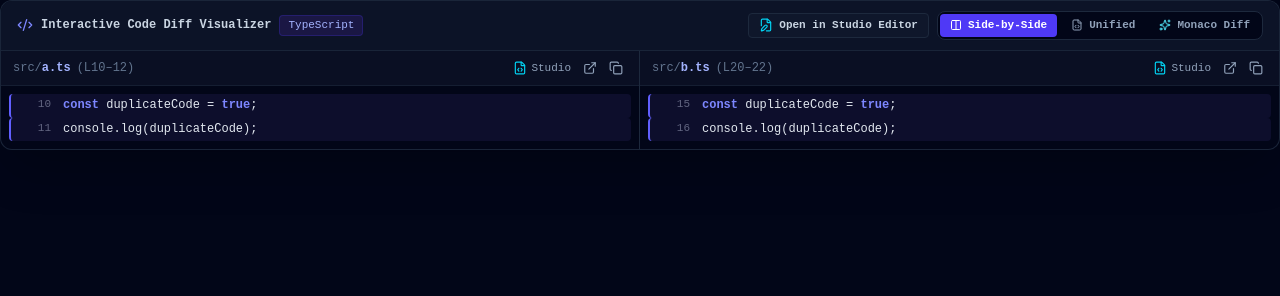
Test: DiffViewer Component › should switch between split and unified view modes
Expected: the text "Interactive Code Diff Visualizer" is shown, [41,17,271,33]
Step 1. Click the button "Unified" → (1103, 25), box [1061,14,1145,37]
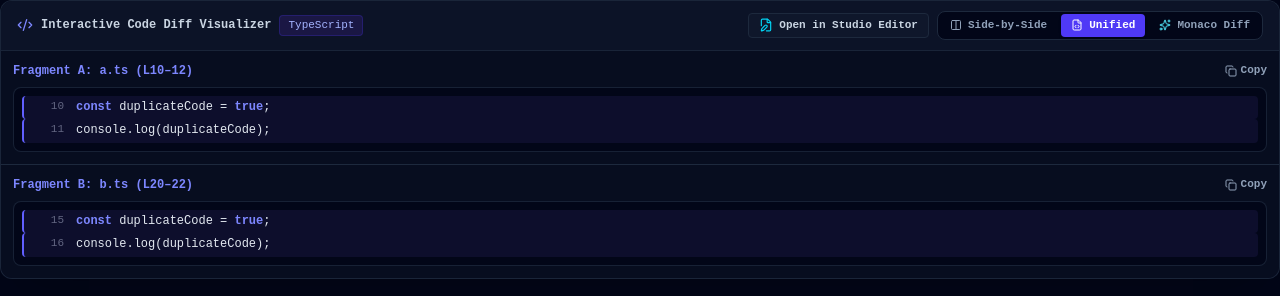
Expected: the text "Fragment A: a.ts (L10–12)" is shown, [13,63,193,79]
Expected: the text "Fragment B: b.ts (L20–22)" is shown, [13,177,193,193]
